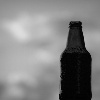beer: (59, 18, 96, 98)
